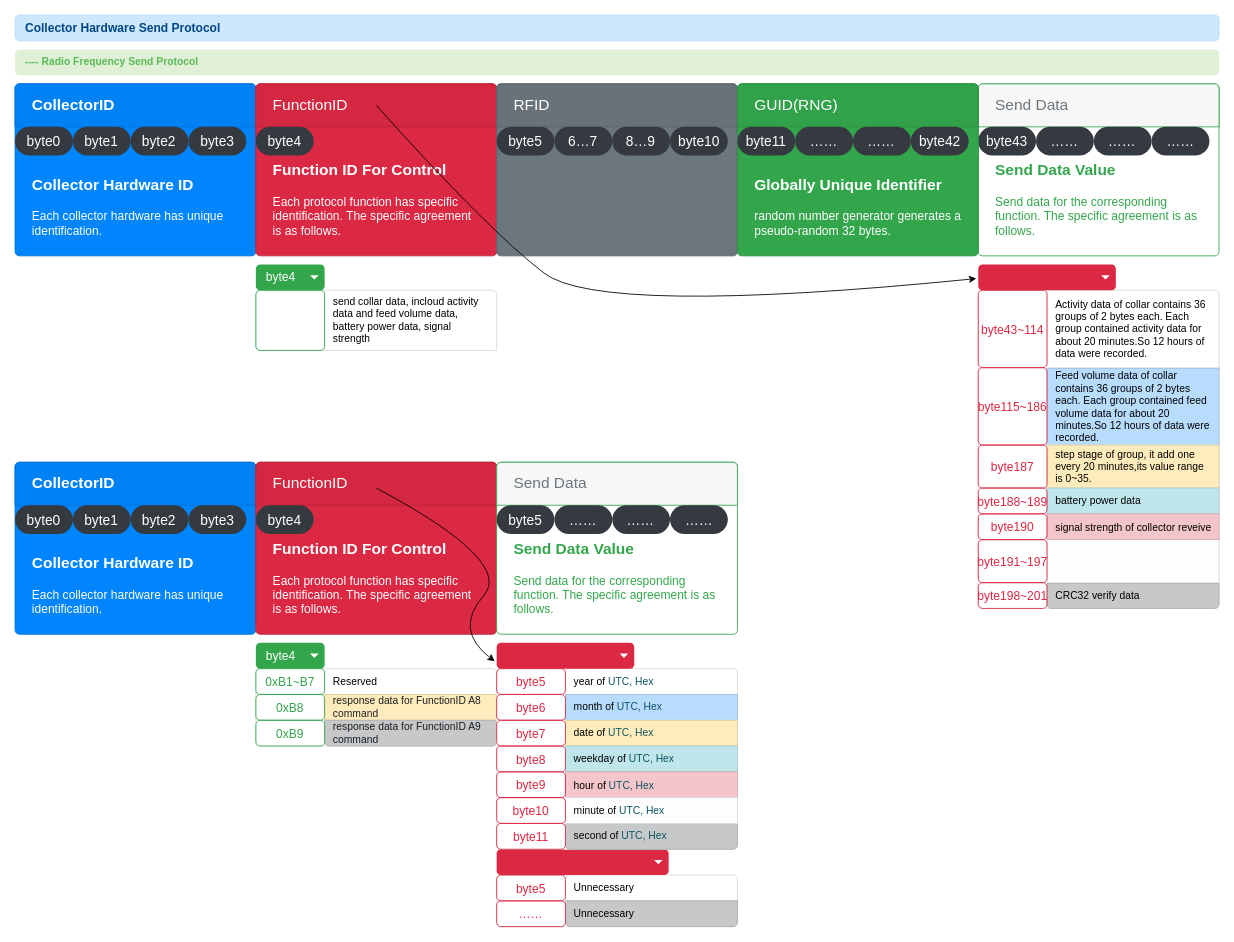
Image size: 1234x942. Some labels were removed from this diagram. Each missing label, with the box of its shape:
0xB0: (255, 289, 325, 350)
FunctionID:B0: (978, 264, 1115, 290)
FunctionID:B1~B7: (496, 849, 668, 875)
FunctionID:B8,B9: (496, 642, 634, 668)
Radio Frequency ID Each collar hardware has unique identification.: (496, 83, 737, 256)
UTC time incloud year and month, date, weekday, hour, minute, second: (1046, 539, 1219, 583)
